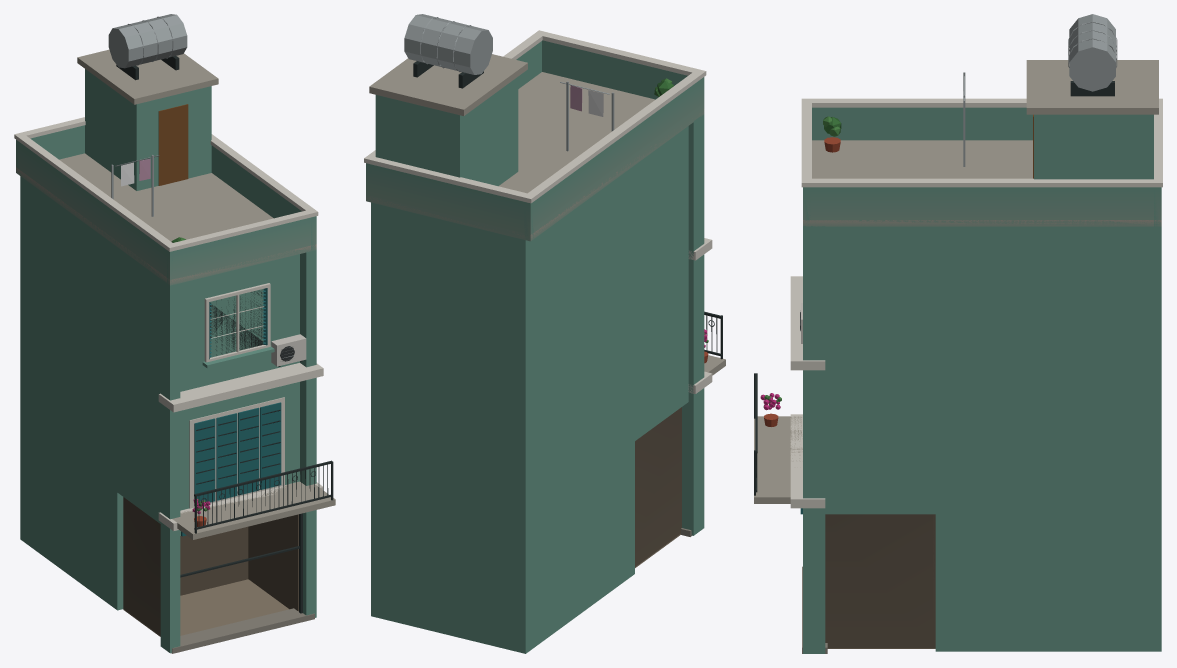
Rendered from nha_A.glb.
3 views of the same model, side by side, from view 1: azimuth 30°, elevation 25°; view 2: azimuth 150°, elevation 25°; view 3: azimuth 270°, elevation 25° (orthographic). The views are drawn at different scales.
Parts seen in each view (by area): view 1: nha_A; view 2: nha_A; view 3: nha_A.
Part boxes in pixels (bbox=[...]): nha_A: bbox=[14, 14, 335, 653]; nha_A: bbox=[364, 14, 725, 653]; nha_A: bbox=[754, 14, 1162, 653].
Bounding box in the file's own units: 4.1 × 13.48 × 8.33.
